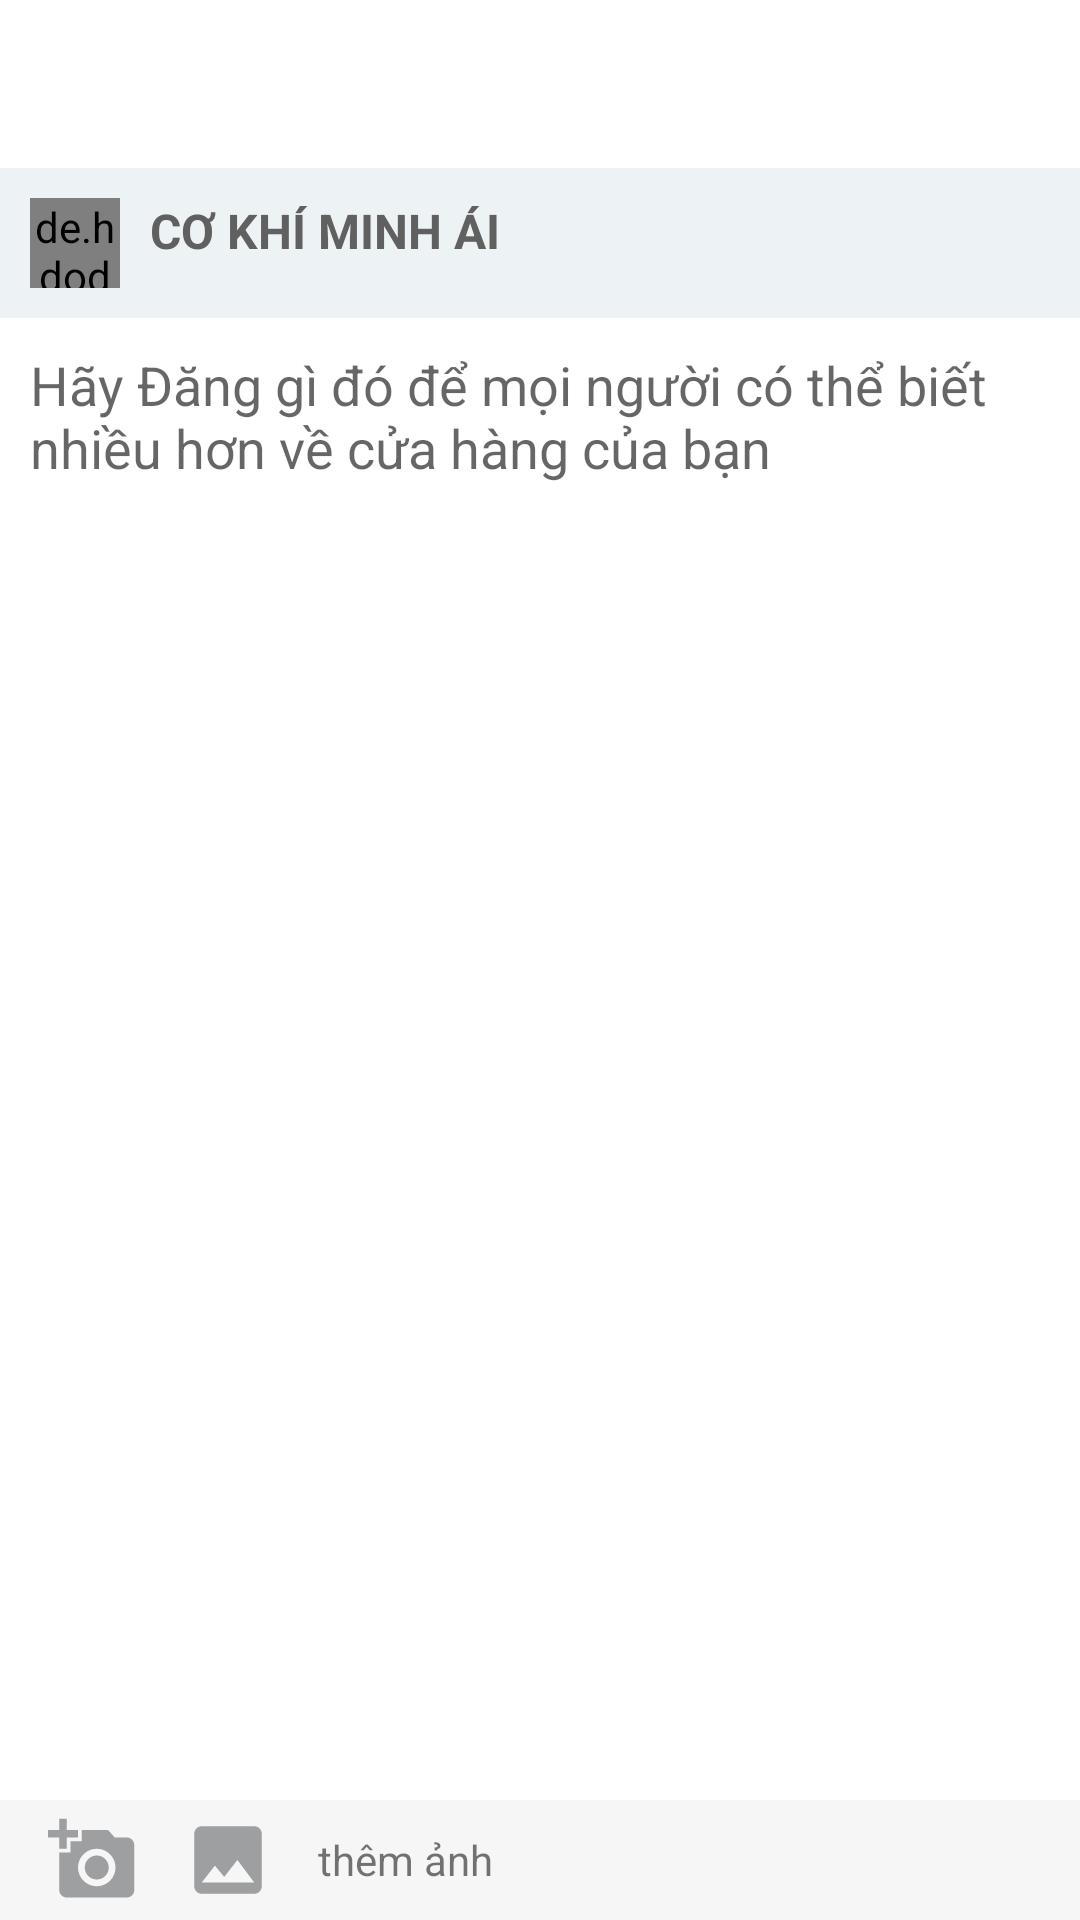

Named icons in this screenshot (1080 × 1920) and their bounding boxes, bbox=(x1, y1, x2, y2):
add photo: bbox=(48, 1819, 134, 1898)
insert photo: bbox=(194, 1826, 262, 1894)
